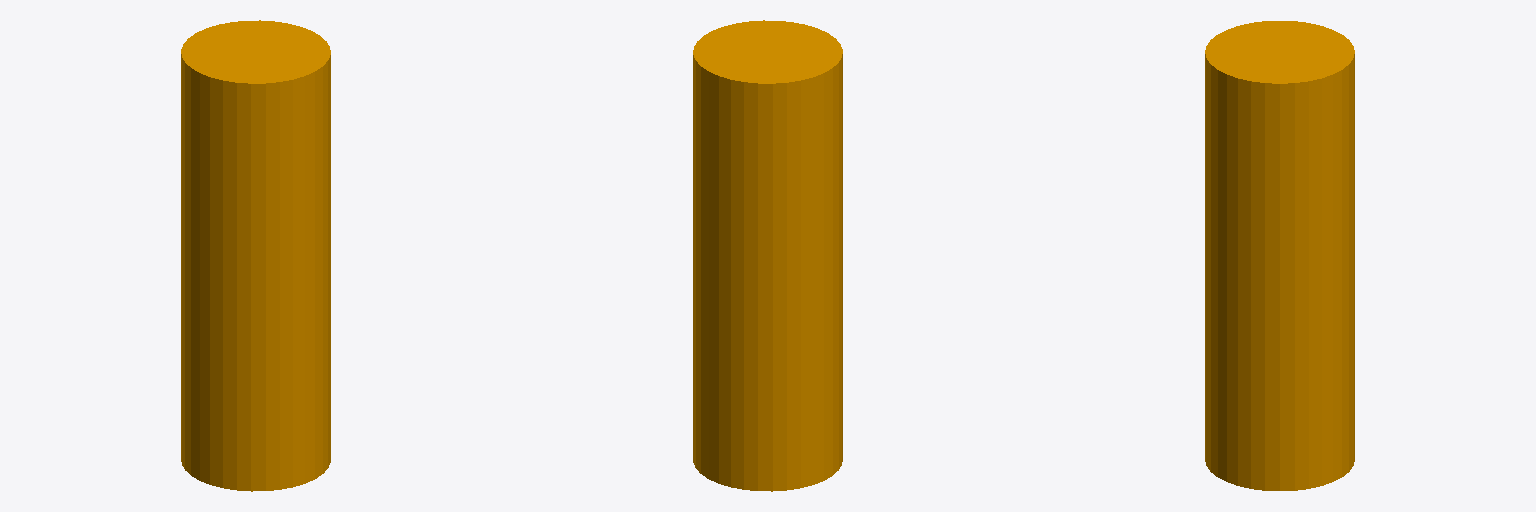
robot.urdf — hubble/hubble_capsule_inner:
<?xml version="1.0"?>
<robot name="hubble/hubble_capsule_inner">
 <link name="body">
  <inertial>
    <mass value="1"/>
    <inertia ixx="0.8125" ixy="0" ixz="0" iyy="0.8125" iyz="0" izz="0.0625"/>
  </inertial>
  <visual>
    <origin rpy="0 0 0" xyz="0 0 0"/>
    <geometry>
      <cylinder length="3" radius="0.5"/>
    </geometry>
  </visual>
  <collision>
    <origin rpy="0 0 0" xyz="0 0 0"/>
    <geometry>
      <cylinder length="3" radius="0.5"/>
    </geometry>
  </collision>
 </link>

  <klampt package_root="../../.." default_acc_max="4" >
  </klampt>
</robot>

--- What the picture shows (computed from the rendered views, not written in the file) ---
3 views of the same robot in one strip: view 1: azimuth 30°, elevation 25°; view 2: azimuth 150°, elevation 25°; view 3: azimuth 270°, elevation 25° (orthographic).
Robot: hubble/hubble_capsule_inner — 1 links, 0 joints (none); root link body; default pose: all joints at 0.
Links seen in each view (by area): view 1: body; view 2: body; view 3: body.
Boxes of the visible links, left/top/right/bottom form: body: left=181, top=20, right=330, bottom=491; body: left=693, top=20, right=842, bottom=491; body: left=1205, top=21, right=1354, bottom=490.
Bounding box of the posed robot: 1 × 1 × 3 m (x, y, z).
Geometry: primitives only (box / cylinder / sphere), no mesh files.
